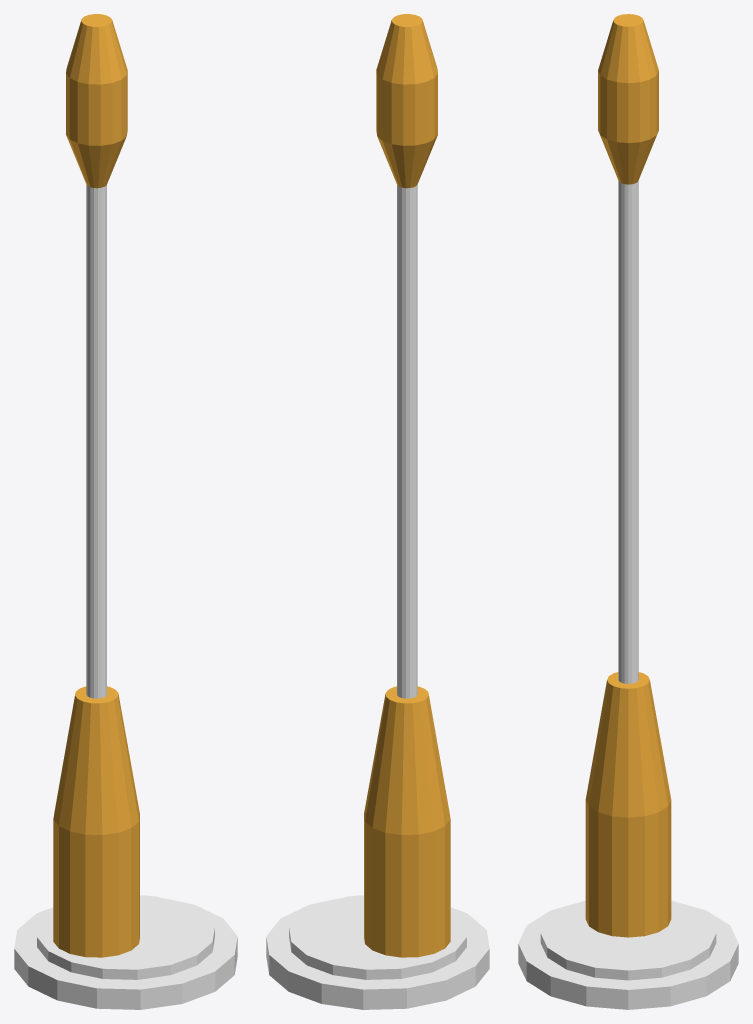
Rendered from CheckPoint.fbx.
The picture shows the model from 3 angles, left to right: view 1: azimuth 30°, elevation 25°; view 2: azimuth 150°, elevation 25°; view 3: azimuth 270°, elevation 25°; orthographic projection. The views are drawn at different scales.
Parts seen in each view (by area): view 1: Цилиндр; view 2: Цилиндр; view 3: Цилиндр.
Part boxes in pixels (x1,y1,x2,y2): Цилиндр: (14,14,237,1009); Цилиндр: (266,14,489,1009); Цилиндр: (518,14,738,1009).
Size of the model in its own units: 1000 by 4650 by 1000.
